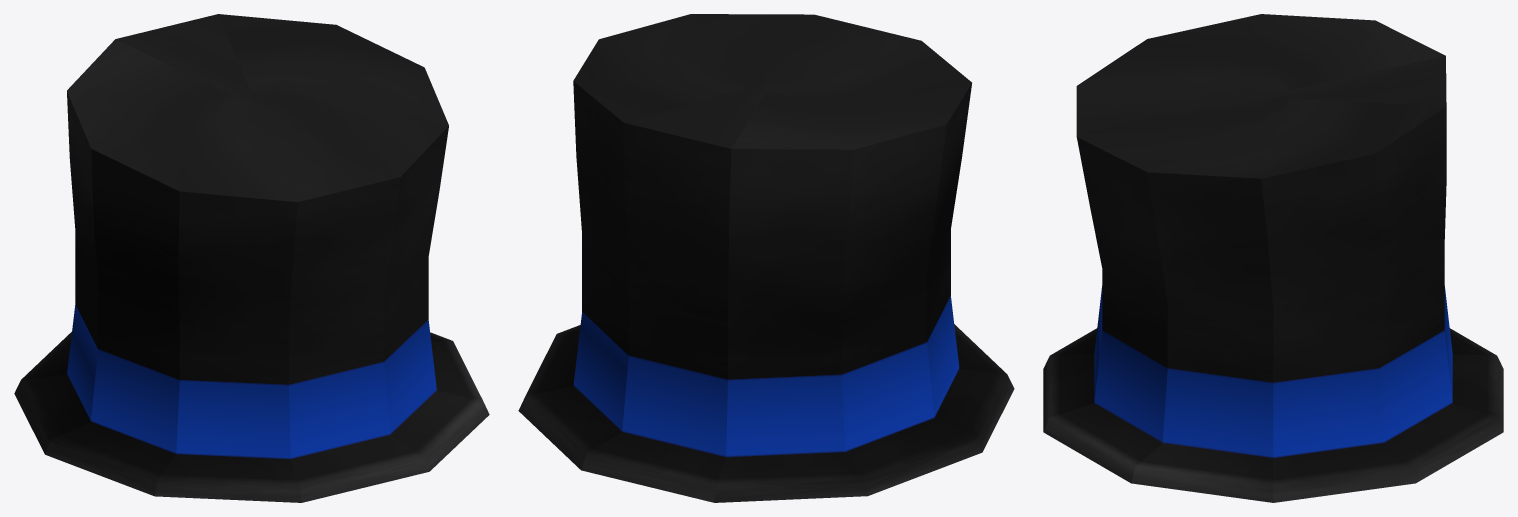
Rendered from hat.obj.
The picture shows the model from 3 angles, left to right: view 1: azimuth 30°, elevation 25°; view 2: azimuth 150°, elevation 25°; view 3: azimuth 270°, elevation 25°; orthographic projection. The views are drawn at different scales.
Visible parts, largest first — view 1: hat:pCylinder1; view 2: hat:pCylinder1; view 3: hat:pCylinder1.
Part boxes in pixels (<box>): hat:pCylinder1: <box>14,14,489,502</box>; hat:pCylinder1: <box>518,14,1014,502</box>; hat:pCylinder1: <box>1043,14,1503,502</box>.
Bounding box in the file's own units: 1.36 × 0.9893 × 1.29.
1 material, 1 textured.
